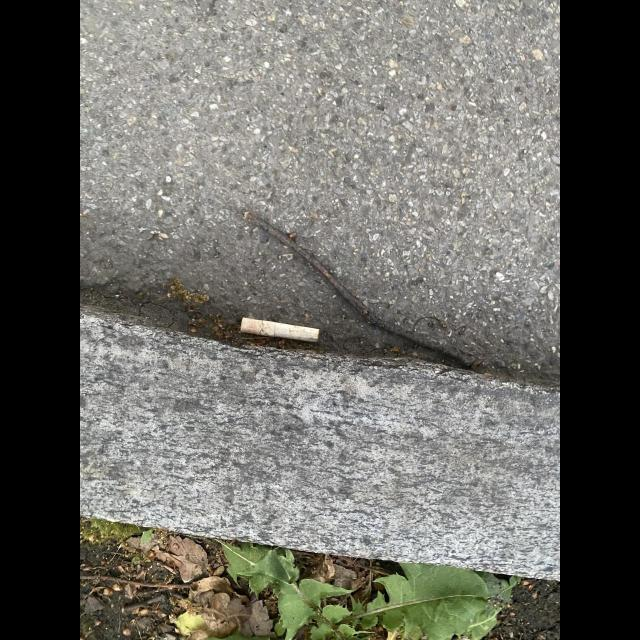cigarette: (239, 317, 319, 343)
